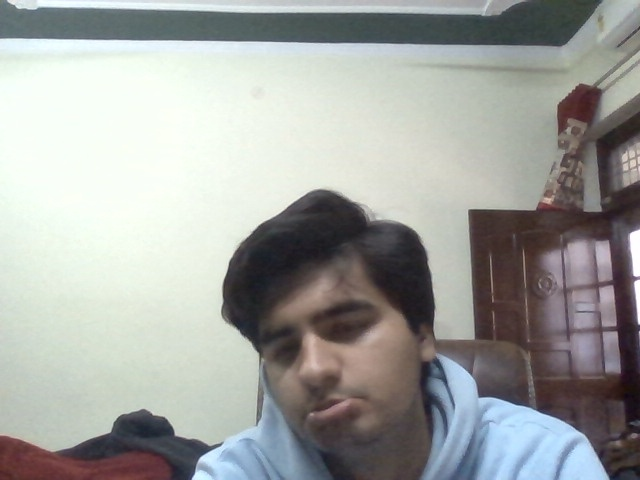sadness: (263, 300, 398, 436)
